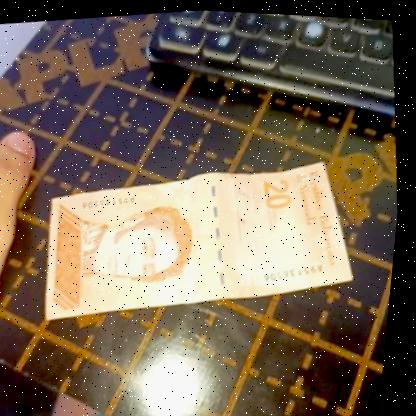twenty-front-vef: (34, 142, 369, 330)
